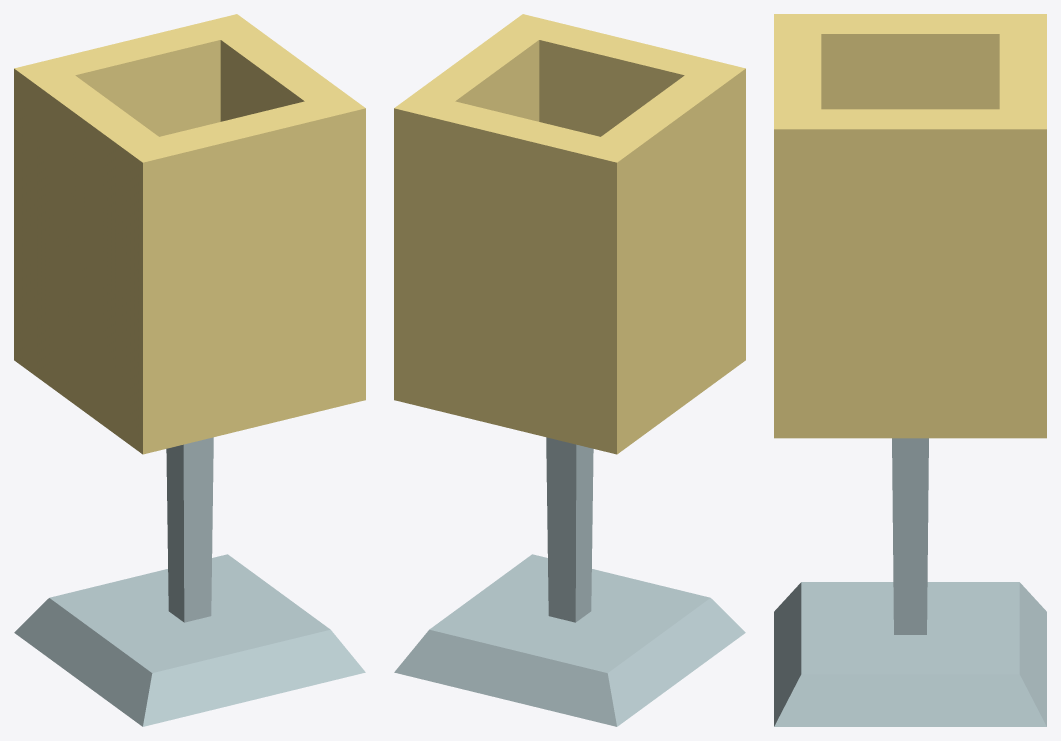
Rendered from lampSquareTable.glb.
The picture shows the model from 3 angles, left to right: view 1: azimuth 30°, elevation 25°; view 2: azimuth 150°, elevation 25°; view 3: azimuth 270°, elevation 25°; orthographic projection. The views are drawn at different scales.
Parts seen in each view (by area): view 1: lampSquareTable; view 2: lampSquareTable; view 3: lampSquareTable.
Boxes of the visible parts, x1,y1,x2,y2 form: lampSquareTable: [14, 14, 365, 726]; lampSquareTable: [394, 14, 745, 726]; lampSquareTable: [774, 14, 1046, 726].
Size of the model in its own units: 0.199 by 0.4809 by 0.199.
